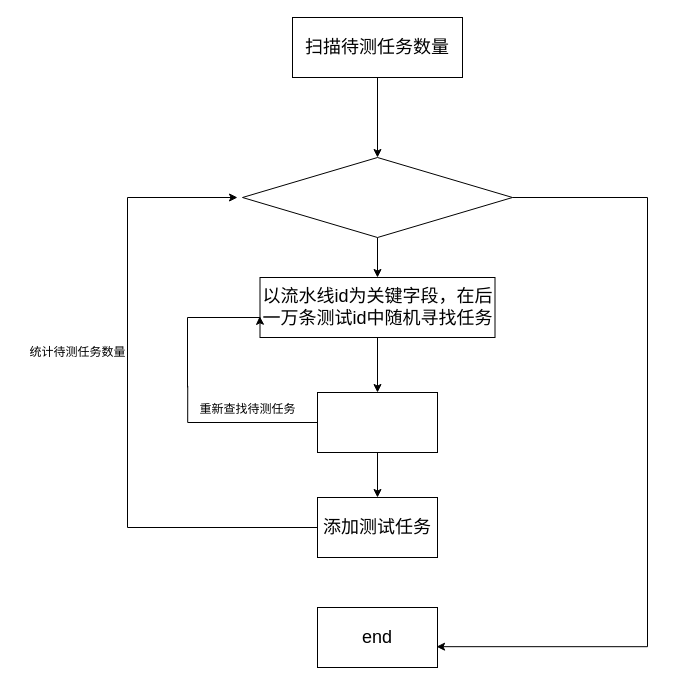
This 673x685 diagram has some shape labels left out. Each missing label, with the centre of its shape:
"待测任务数量<60" belongs at (377,197).
"检测任务是否满足测试条件" belongs at (377,422).
